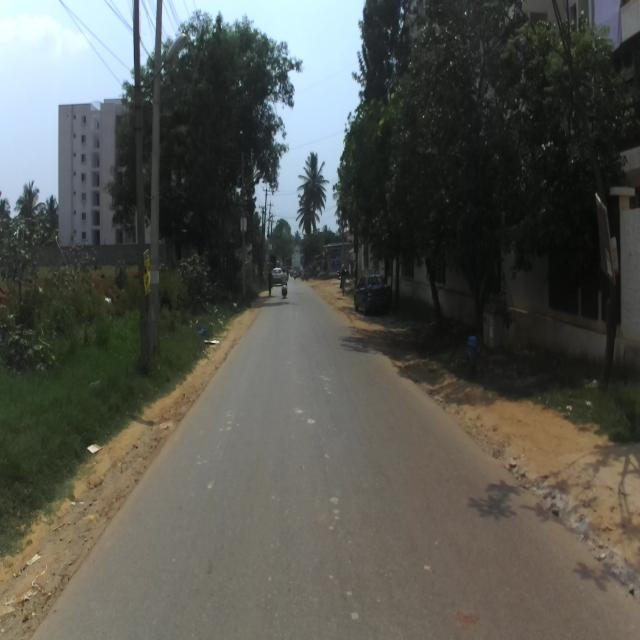electric pole ahead at: (132, 1, 172, 373)
